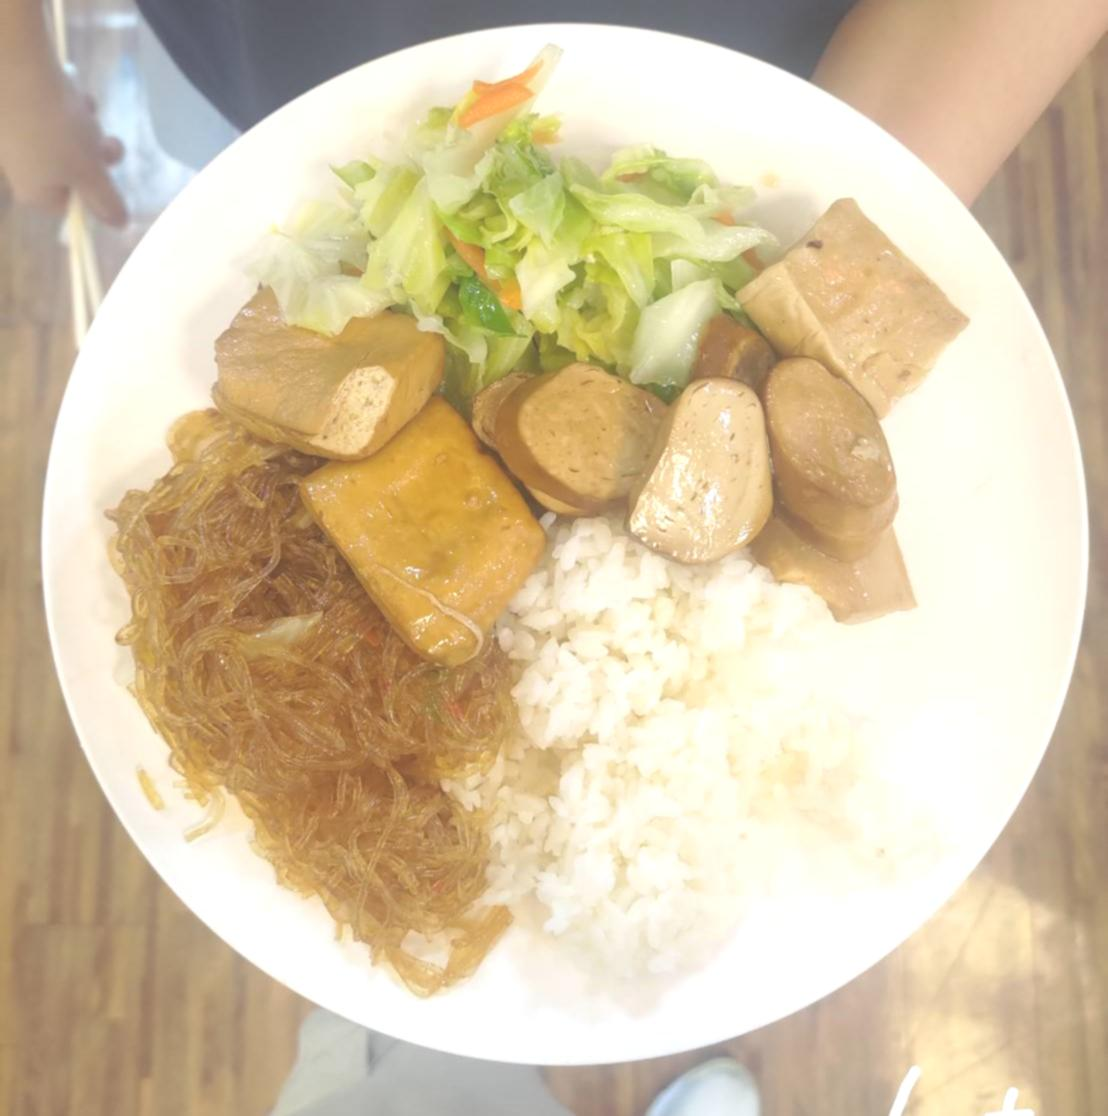big fried chicken leg: (41, 30, 1097, 1067)
big herbal chicken leg: (486, 518, 943, 1014)
braised fish fillet: (98, 430, 512, 1009), (532, 191, 953, 606), (298, 74, 752, 392), (223, 280, 548, 645)
